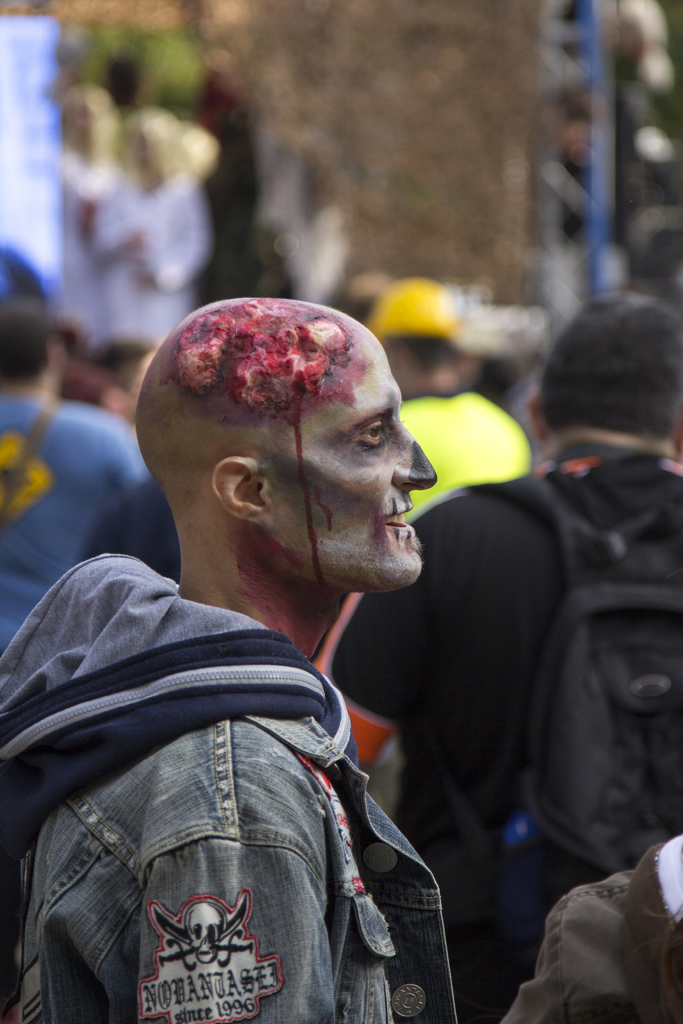Person: (0, 298, 179, 660), (500, 834, 683, 1024)
